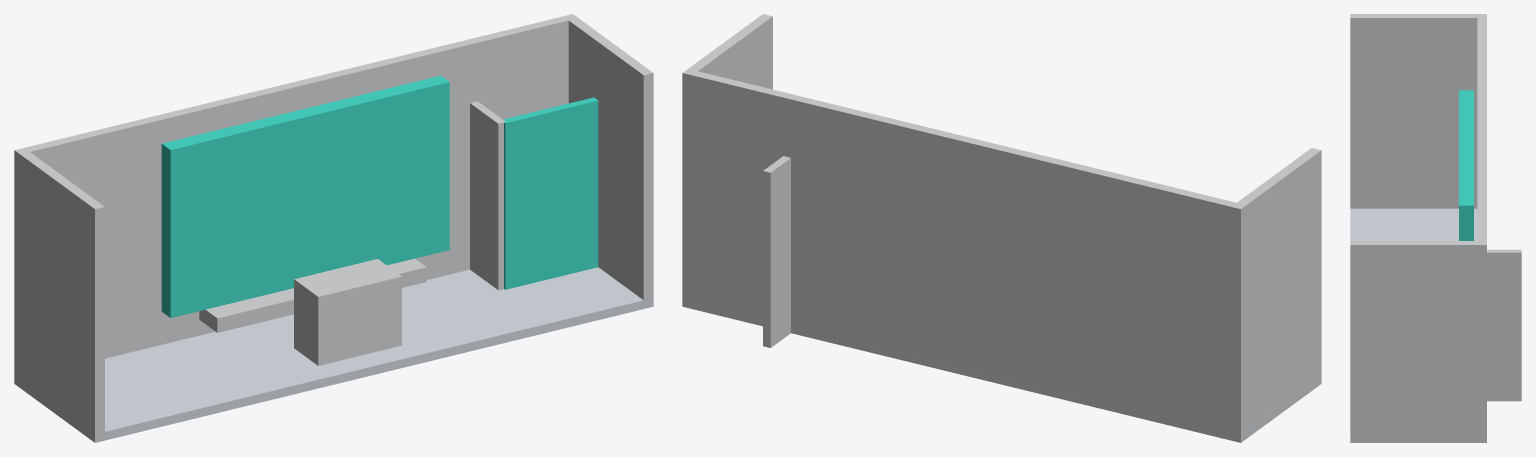
The picture shows the model from 3 angles, left to right: view 1: azimuth 30°, elevation 25°; view 2: azimuth 150°, elevation 25°; view 3: azimuth 270°, elevation 25°; orthographic projection. The views are drawn at different scales.
Visible parts, largest first — view 1: Exhibition Booth Concept; view 2: Exhibition Booth Concept; view 3: Exhibition Booth Concept.
Boxes of the visible parts, <box> form: Exhibition Booth Concept: <box>14,14,653,442</box>; Exhibition Booth Concept: <box>682,14,1321,442</box>; Exhibition Booth Concept: <box>1350,14,1521,442</box>.
Bounding box in the file's own units: 8 × 3.2 × 2.5.
